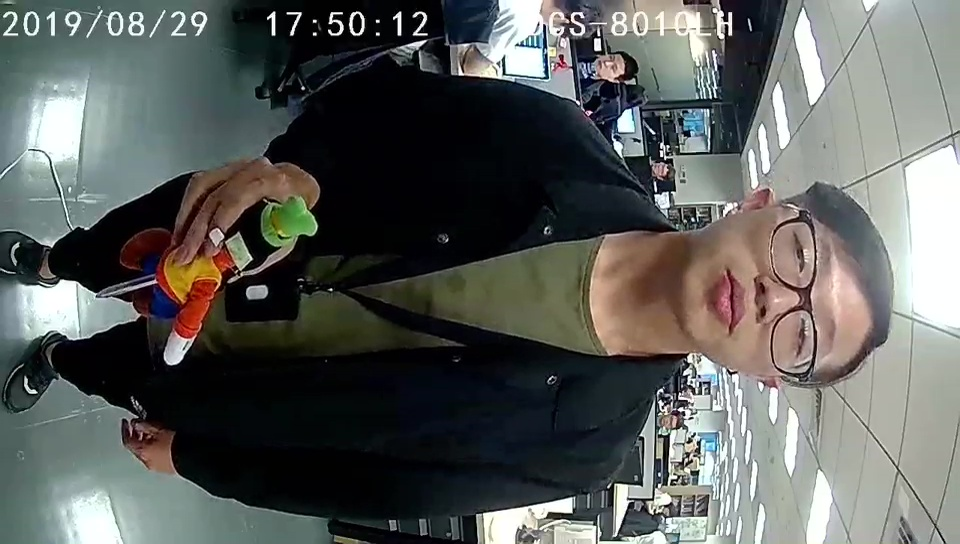goofy: (117, 197, 321, 366)
